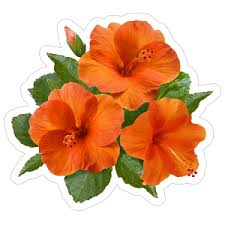hybiscus: (29, 82, 123, 177)
